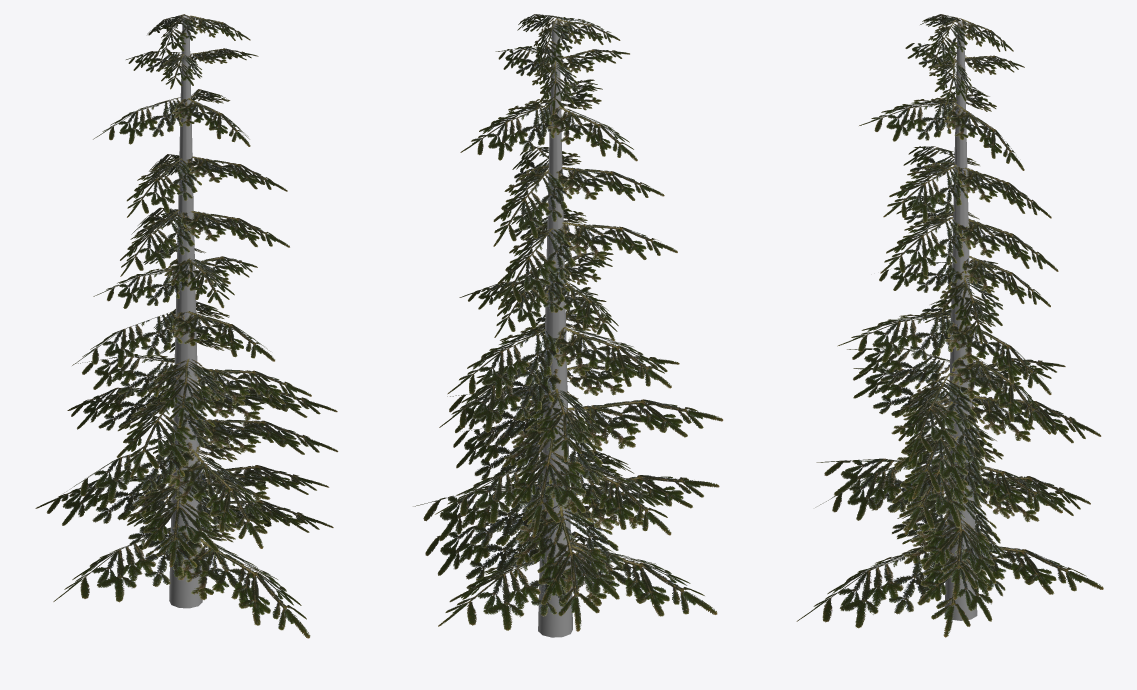
Rendered from SM_Fir1.fbx.
The picture shows the model from 3 angles, left to right: view 1: azimuth 30°, elevation 25°; view 2: azimuth 150°, elevation 25°; view 3: azimuth 270°, elevation 25°; orthographic projection. The views are drawn at different scales.
Visible parts, largest first — view 1: polySurface21; view 2: polySurface21; view 3: polySurface21.
Part boxes in pixels (x1,y1,x2,y2): polySurface21: (35,14,338,638); polySurface21: (413,14,723,637); polySurface21: (796,14,1103,637).
Size of the model in its own units: 514 by 988 by 505.
2 materials, 1 textured.
